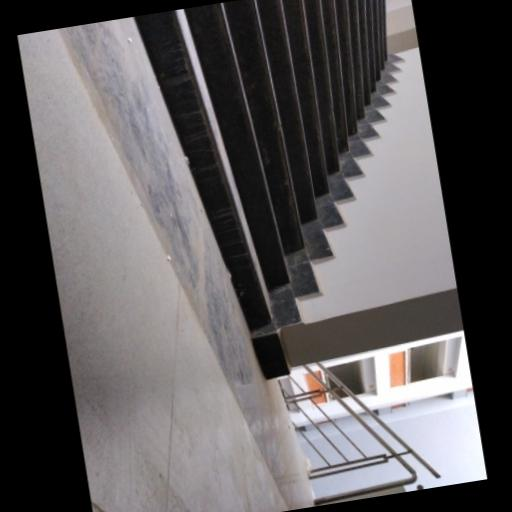stairs: (136, 0, 386, 329)
